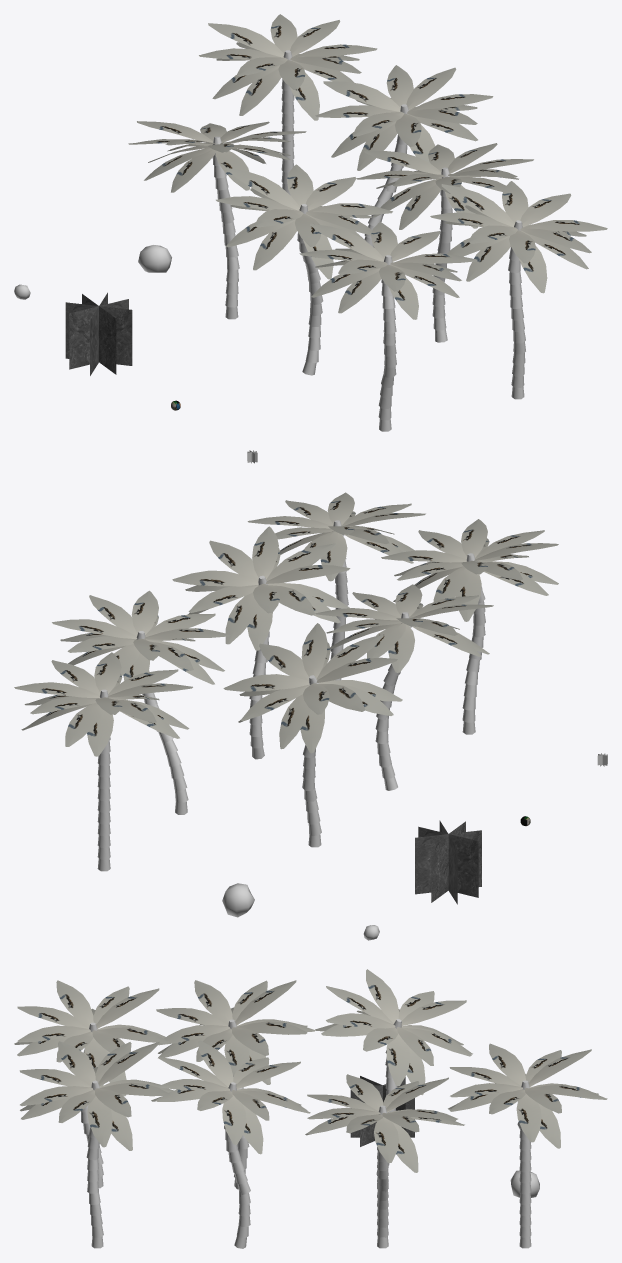
3 views of the same model, one above another, from view 1: azimuth 30°, elevation 25°; view 2: azimuth 150°, elevation 25°; view 3: azimuth 270°, elevation 25° (orthographic). The views are drawn at different scales.
Visible parts, largest first — view 1: palm_tree.003, palm_tree, palm_tree.002, palm_tree.005, leaves, palm_tree.001, palm_tree.004, bush, trunk, large_stone; view 2: palm_tree.004, palm_tree.001, palm_tree.005, palm_tree.002, leaves, palm_tree, palm_tree.003, bush, trunk, large_stone; view 3: palm_tree.003, palm_tree.001, palm_tree.004, palm_tree.005, palm_tree, leaves, palm_tree.002, trunk, bush, large_stone.
Boxes of the visible parts, left/top/right/bottom form: palm_tree.003: left=430, top=181, right=607, bottom=399; palm_tree: left=216, top=164, right=392, bottom=375; palm_tree.002: left=299, top=222, right=477, bottom=431; palm_tree.005: left=315, top=65, right=493, bottom=247; leaves: left=199, top=14, right=377, bottom=120; palm_tree.001: left=356, top=143, right=533, bottom=342; palm_tree.004: left=128, top=121, right=306, bottom=319; bush: left=65, top=292, right=132, bottom=375; trunk: left=281, top=50, right=294, bottom=195; large_stone: left=138, top=245, right=171, bottom=272; palm_tree.004: left=223, top=623, right=402, bottom=847; palm_tree.001: left=172, top=526, right=350, bottom=759; palm_tree.005: left=52, top=590, right=230, bottom=814; palm_tree.002: left=381, top=519, right=558, bottom=734; leaves: left=14, top=652, right=192, bottom=756; palm_tree: left=315, top=584, right=493, bottom=790; palm_tree.003: left=247, top=492, right=425, bottom=680; bush: left=415, top=820, right=481, bottom=904; trunk: left=97, top=689, right=110, bottom=871; large_stone: left=222, top=883, right=254, bottom=917; palm_tree.003: left=19, top=1041, right=173, bottom=1248; palm_tree.001: left=151, top=1040, right=310, bottom=1248; palm_tree.004: left=315, top=969, right=472, bottom=1185; palm_tree.005: left=305, top=1074, right=464, bottom=1248; palm_tree: left=156, top=980, right=315, bottom=1189; leaves: left=448, top=1043, right=607, bottom=1148; palm_tree.002: left=14, top=980, right=168, bottom=1188; trunk: left=519, top=1080, right=531, bottom=1248; bush: left=350, top=1076, right=414, bottom=1146; large_stone: left=510, top=1170, right=539, bottom=1197.
Size of the model in its own units: 31.03 by 15.25 by 41.64.
